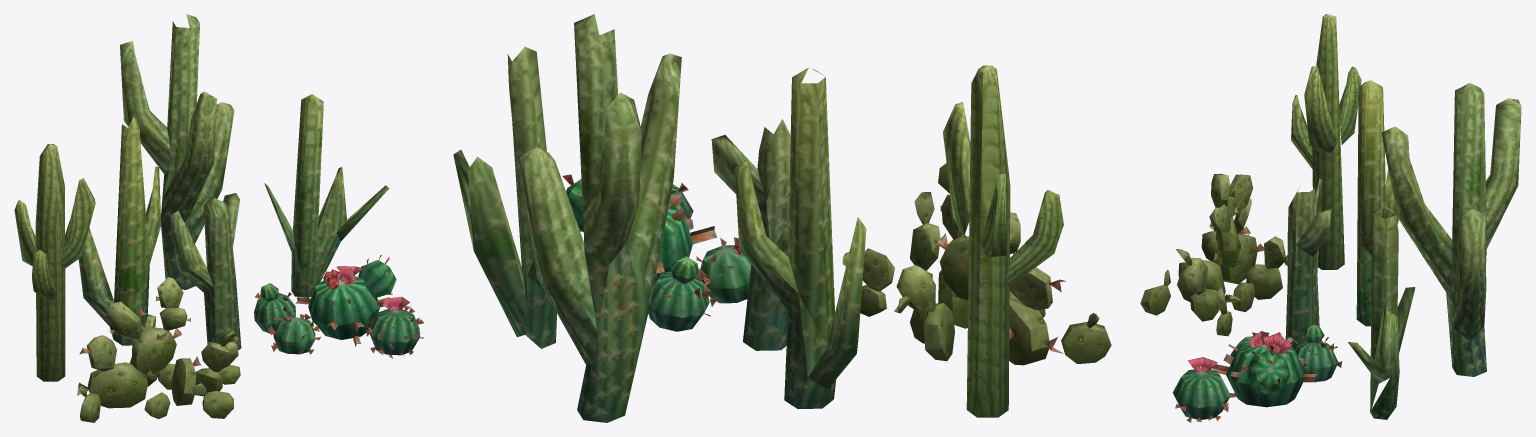
File: Cactus.glb
3 renders of one model, left to right at view 1: azimuth 30°, elevation 25°; view 2: azimuth 150°, elevation 25°; view 3: azimuth 270°, elevation 25°, orthographic. The views are drawn at different scales.
Parts seen in each view (by area): view 1: 3d66-Editable_mesh-22866372-004, 3d66-Editable_mesh-22866372-001, 3d66-Editable_mesh-22866372-002, 3d66-Editable_mesh-22866372-003; view 2: 3d66-Editable_mesh-22866372-004, 3d66-Editable_mesh-22866372-003, 3d66-Editable_mesh-22866372-001, 3d66-Editable_mesh-22866372-002; view 3: 3d66-Editable_mesh-22866372-004, 3d66-Editable_mesh-22866372-001, 3d66-Editable_mesh-22866372-002, 3d66-Editable_mesh-22866372-003.
Part boxes in pixels (box(x1,y1,x2,y2)): 3d66-Editable_mesh-22866372-004: box(78, 14, 389, 350); 3d66-Editable_mesh-22866372-001: box(77, 277, 240, 422); 3d66-Editable_mesh-22866372-002: box(254, 255, 423, 358); 3d66-Editable_mesh-22866372-003: box(14, 144, 95, 381); 3d66-Editable_mesh-22866372-004: box(453, 14, 866, 422); 3d66-Editable_mesh-22866372-003: box(943, 65, 1063, 417); 3d66-Editable_mesh-22866372-001: box(842, 163, 1111, 365); 3d66-Editable_mesh-22866372-002: box(562, 174, 751, 331); 3d66-Editable_mesh-22866372-004: box(1285, 80, 1521, 419); 3d66-Editable_mesh-22866372-001: box(1140, 173, 1287, 336); 3d66-Editable_mesh-22866372-002: box(1172, 325, 1342, 422); 3d66-Editable_mesh-22866372-003: box(1291, 14, 1361, 269).
Bounding box in the file's own units: 1.41 × 0.944 × 1.13.
4 materials, 4 textured.
